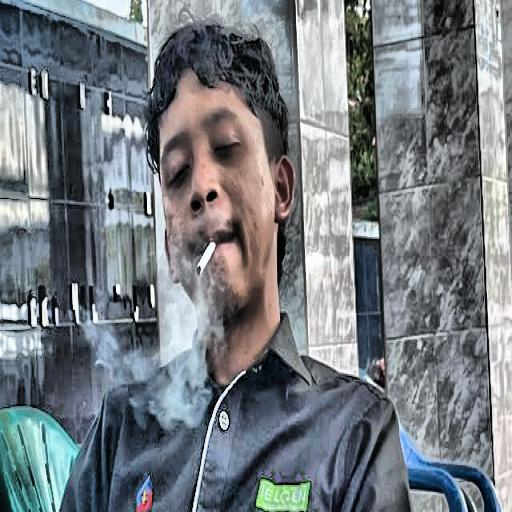Merokok: (197, 242, 215, 274)
Rokok: (52, 20, 411, 512)
